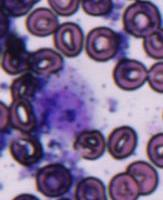D: (35, 83, 95, 139)
